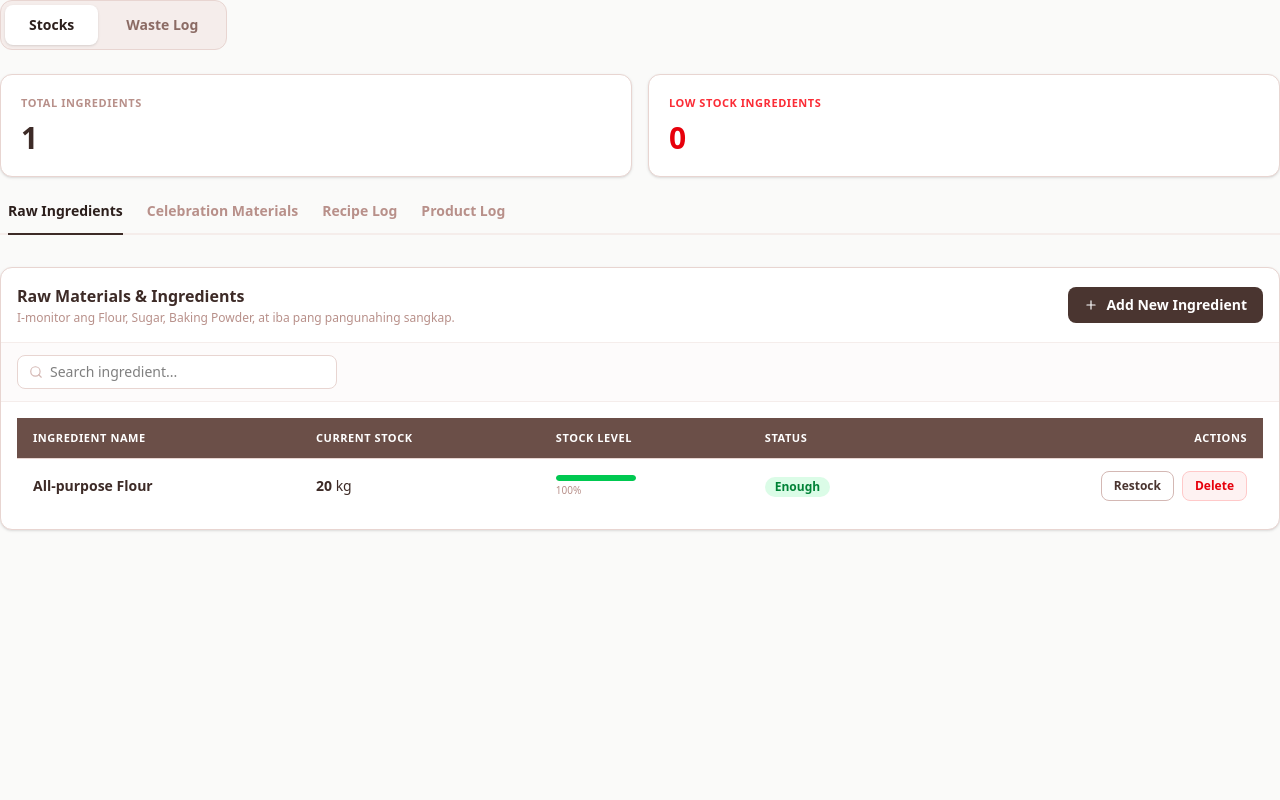
Test: InventoryPage Inter-Component Integration (Real Child Tabs) › Raw Ingredients sub-tab › should render the real RawTab with ingredient data and filter via search
In the field with placeholder "Search ingredient...": [177, 372] box top-left (17, 354), bottom-right (337, 388), type "Nonexistent"
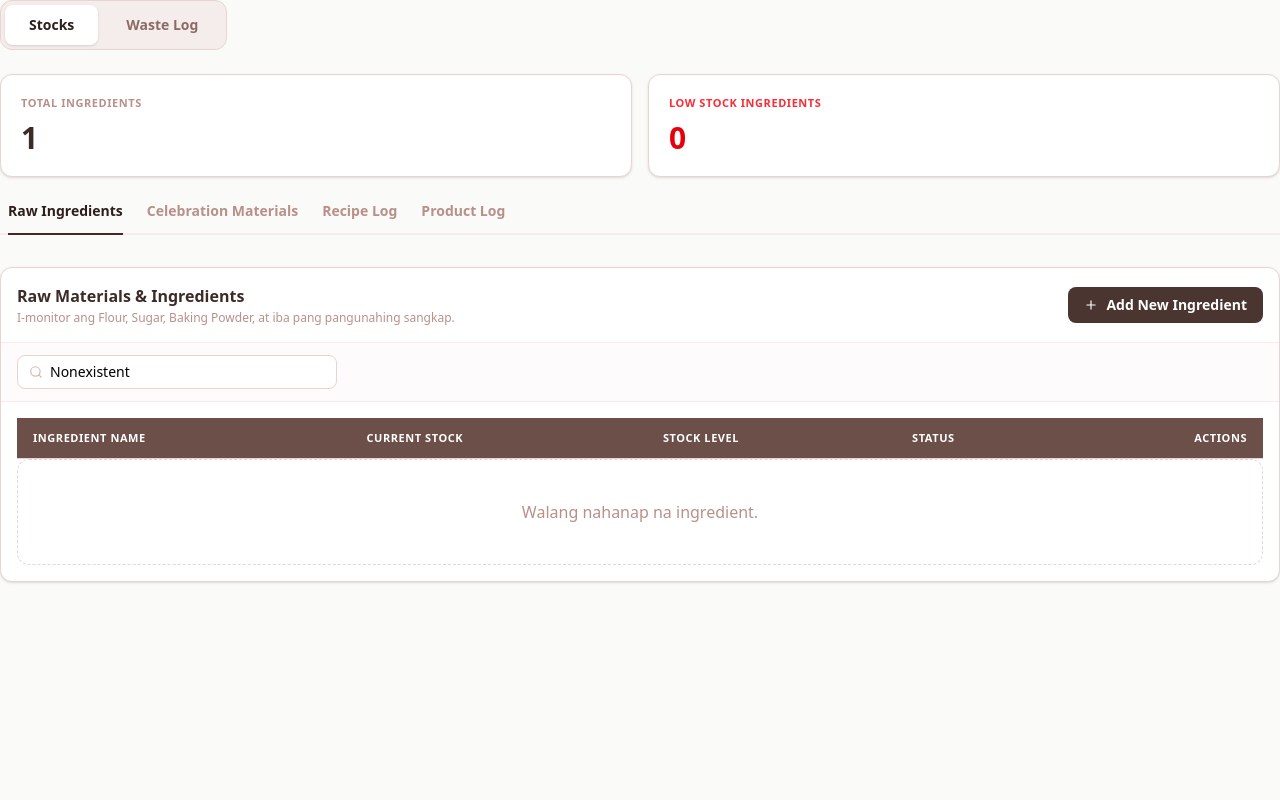
Expected: the text "Walang nahanap na ingredient." is shown, top-left (17, 459), bottom-right (1263, 565)
